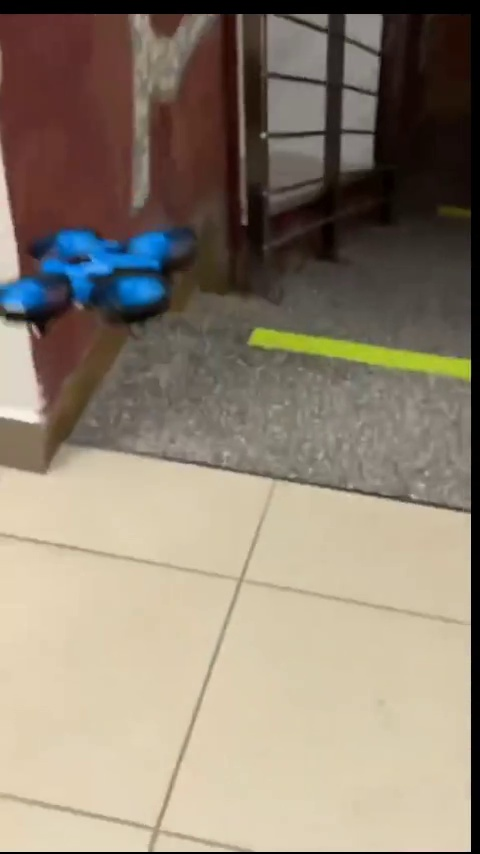drone: (2, 225, 197, 321)
